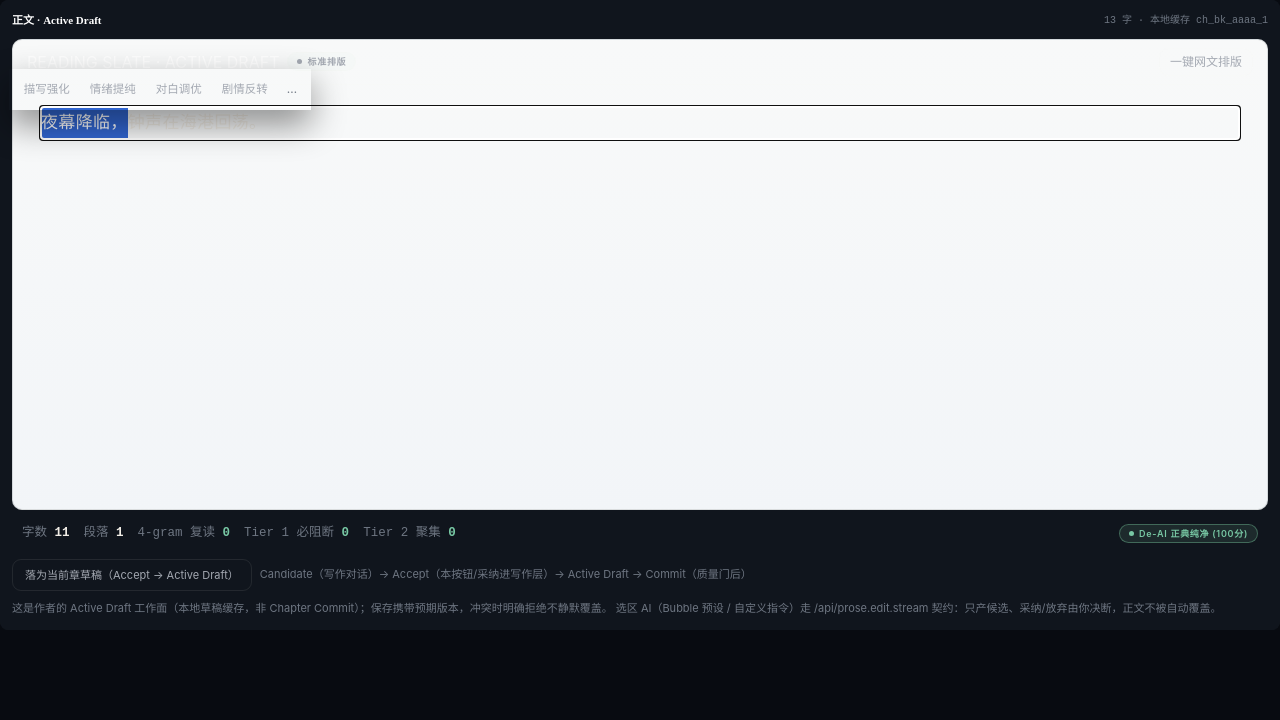
Test: 行内 AI 编辑（/api/prose.edit.stream 接线） › AI 失败（NDJSON error 帧）：诚实报错，正文一字不改，无 diff 面板
Click the button titled "强化角色声线" at (179, 90), box x1=147 y1=78 x2=211 y2=101
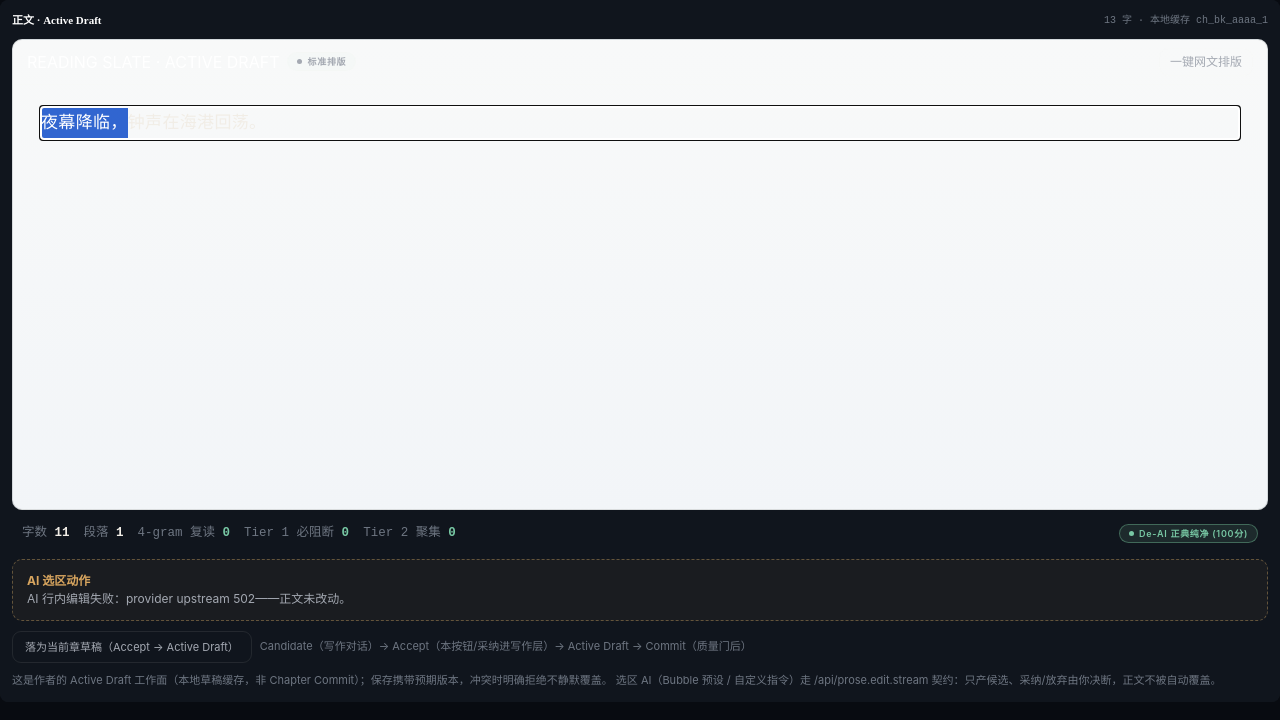
Expected: the field reads "夜幕降临，钟声在海港回荡。", x1=41 y1=112 x2=266 y2=132
Result: the message shows "AI 行内编辑失败" at x1=27 y1=590 x2=351 y2=606
Result: the message shows "provider upstream 502" at x1=27 y1=590 x2=351 y2=606
